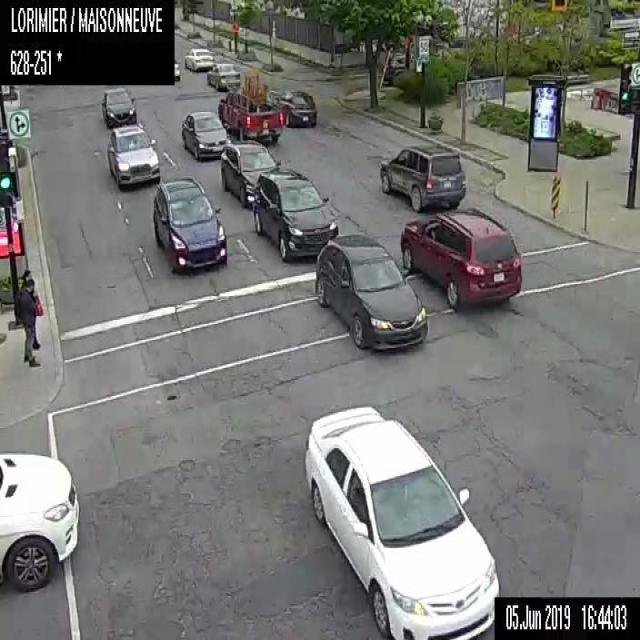pedestrian: (13, 278, 40, 367), (19, 268, 42, 348)
vehicle: (302, 402, 501, 638), (314, 234, 427, 348), (400, 208, 520, 309), (0, 449, 78, 594), (253, 170, 337, 261), (152, 178, 226, 273), (378, 143, 464, 211), (218, 64, 282, 144), (220, 141, 280, 204), (108, 122, 160, 188), (182, 110, 232, 160), (269, 90, 316, 126), (101, 88, 135, 129), (381, 52, 415, 85), (206, 62, 239, 90), (184, 47, 214, 71), (173, 58, 180, 80)
